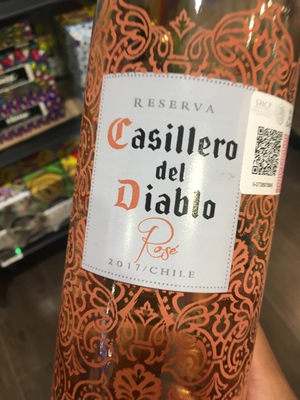casillero del diablo rose: (52, 10, 299, 400)
